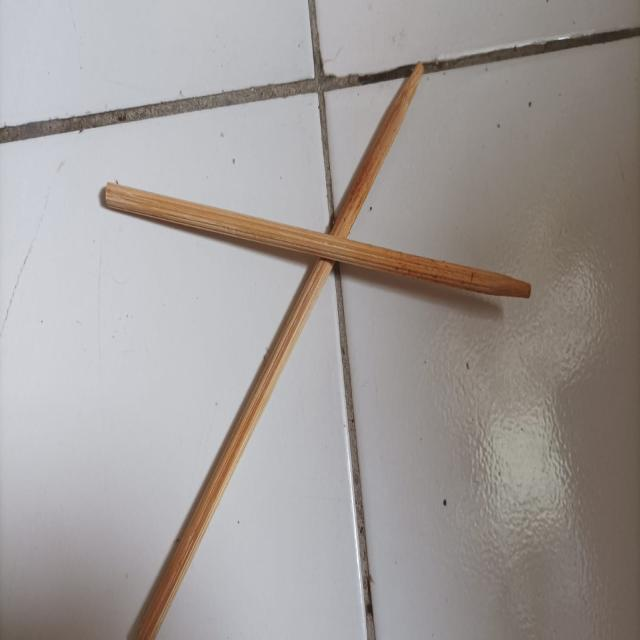Organik: (105, 62, 530, 640)
